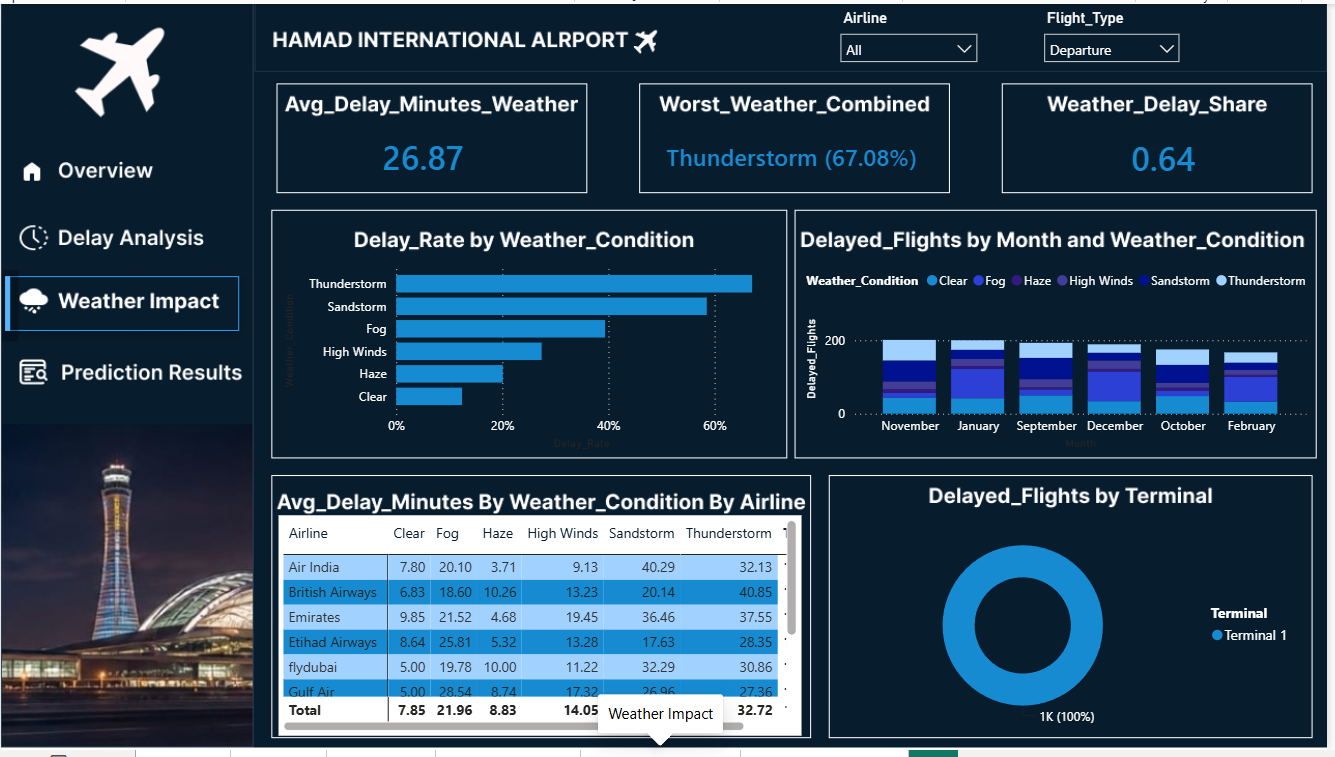

What the dashboard file says about the page in this screenshot:
{"tool":"powerbi","page":{"name":"Weather Impact","canvas":[1280,720],"ordinal":4},"visuals":[{"type":"cardVisual","fields":{"Data":["Measure.Avg_Delay_Minutes_Weather"]},"box":[267.9,110.7,279.8,70.2],"z":0},{"type":"cardVisual","fields":{"Data":["Measure.Worst_Weather_Combined"]},"box":[611.9,110.7,303.6,70.2],"z":1000},{"type":"cardVisual","fields":{"Data":["Measure.Weather_Delay_Share"]},"box":[1004.8,111.9,234.5,69],"z":2000},{"type":"barChart","fields":{"Category":["hia_flights.Weather_Condition"],"Y":["Measure.Delay_Rate"]},"box":[267.9,240.5,489.3,195.2],"z":3000},{"type":"columnChart","fields":{"Category":["hia_flights.Month"],"Series":["hia_flights.Weather_Condition"],"Y":["Measure.Delayed_Flights"]},"box":[772.6,247.6,492.9,188.1],"z":4000},{"type":"donutChart","fields":{"Category":["hia_flights.Terminal"],"Y":["Measure.Delayed_Flights"]},"box":[800,492.9,456,213.1],"z":5000},{"type":"pivotTable","fields":{"Columns":["hia_flights.Weather_Condition"],"Rows":["hia_flights.Airline"],"Values":["Measure.Avg_Delay_Minutes"]},"box":[267.9,492.9,504.8,213.1],"z":6000},{"type":"slicer","fields":{"Values":["hia_flights.Flight_Type"]},"box":[996.4,0,151.2,61.9],"z":7000},{"type":"slicer","fields":{"Values":["hia_flights.Airline"]},"box":[800,0,152.4,61.9],"z":8000},{"type":"actionButton","box":[0,332.5,233.8,55],"z":9000}]}

Visuals, with their boxes on the page's 1280x720 design canvas (x1, y1, x2, y2). These are canvas units, not pixel positions in the 1335x757 screenshot, which may show the page scaled, cropped or inside an application window:
cardVisual - Measure.Avg_Delay_Minutes_Weather: BBox(268, 111, 548, 181)
cardVisual - Measure.Worst_Weather_Combined: BBox(612, 111, 916, 181)
cardVisual - Measure.Weather_Delay_Share: BBox(1005, 112, 1239, 181)
barChart - hia_flights.Weather_Condition x Measure.Delay_Rate: BBox(268, 240, 757, 436)
columnChart - hia_flights.Month x hia_flights.Weather_Condition: BBox(773, 248, 1266, 436)
donutChart - hia_flights.Terminal x Measure.Delayed_Flights: BBox(800, 493, 1256, 706)
pivotTable - hia_flights.Weather_Condition x hia_flights.Airline: BBox(268, 493, 773, 706)
slicer - hia_flights.Flight_Type: BBox(996, 0, 1148, 62)
slicer - hia_flights.Airline: BBox(800, 0, 952, 62)
actionButton: BBox(0, 332, 234, 388)
